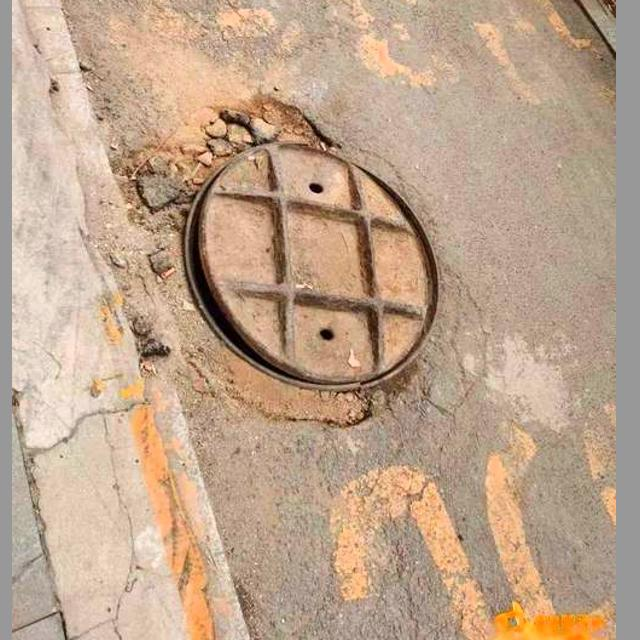circle: (79, 63, 465, 467)
